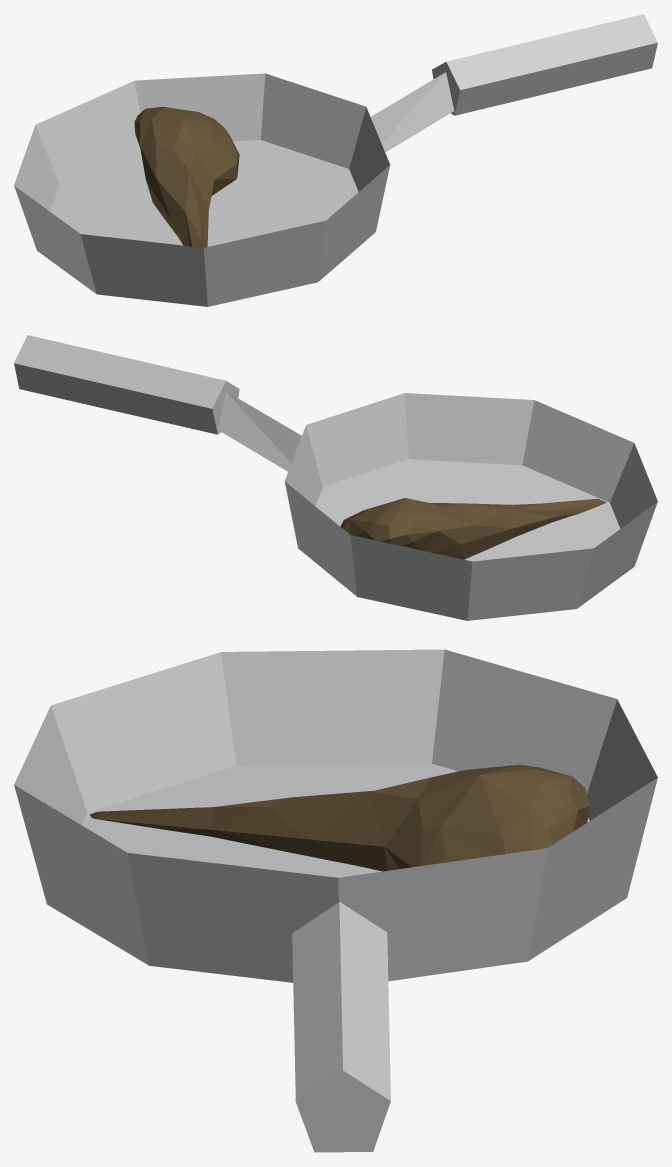
File: ITMI_PANFULL.OBJ
3 renders of one model, top to bottom at view 1: azimuth 30°, elevation 25°; view 2: azimuth 150°, elevation 25°; view 3: azimuth 270°, elevation 25°, orthographic. The views are drawn at different scales.
Visible parts, largest first — view 1: ITMI_PANFULL; view 2: ITMI_PANFULL; view 3: ITMI_PANFULL.
Part boxes in pixels (<box>): ITMI_PANFULL: <box>14,14,657,306</box>; ITMI_PANFULL: <box>14,335,657,620</box>; ITMI_PANFULL: <box>14,649,657,1152</box>.
Bounding box in the file's own units: 0.6039 × 0.1128 × 0.3282.
